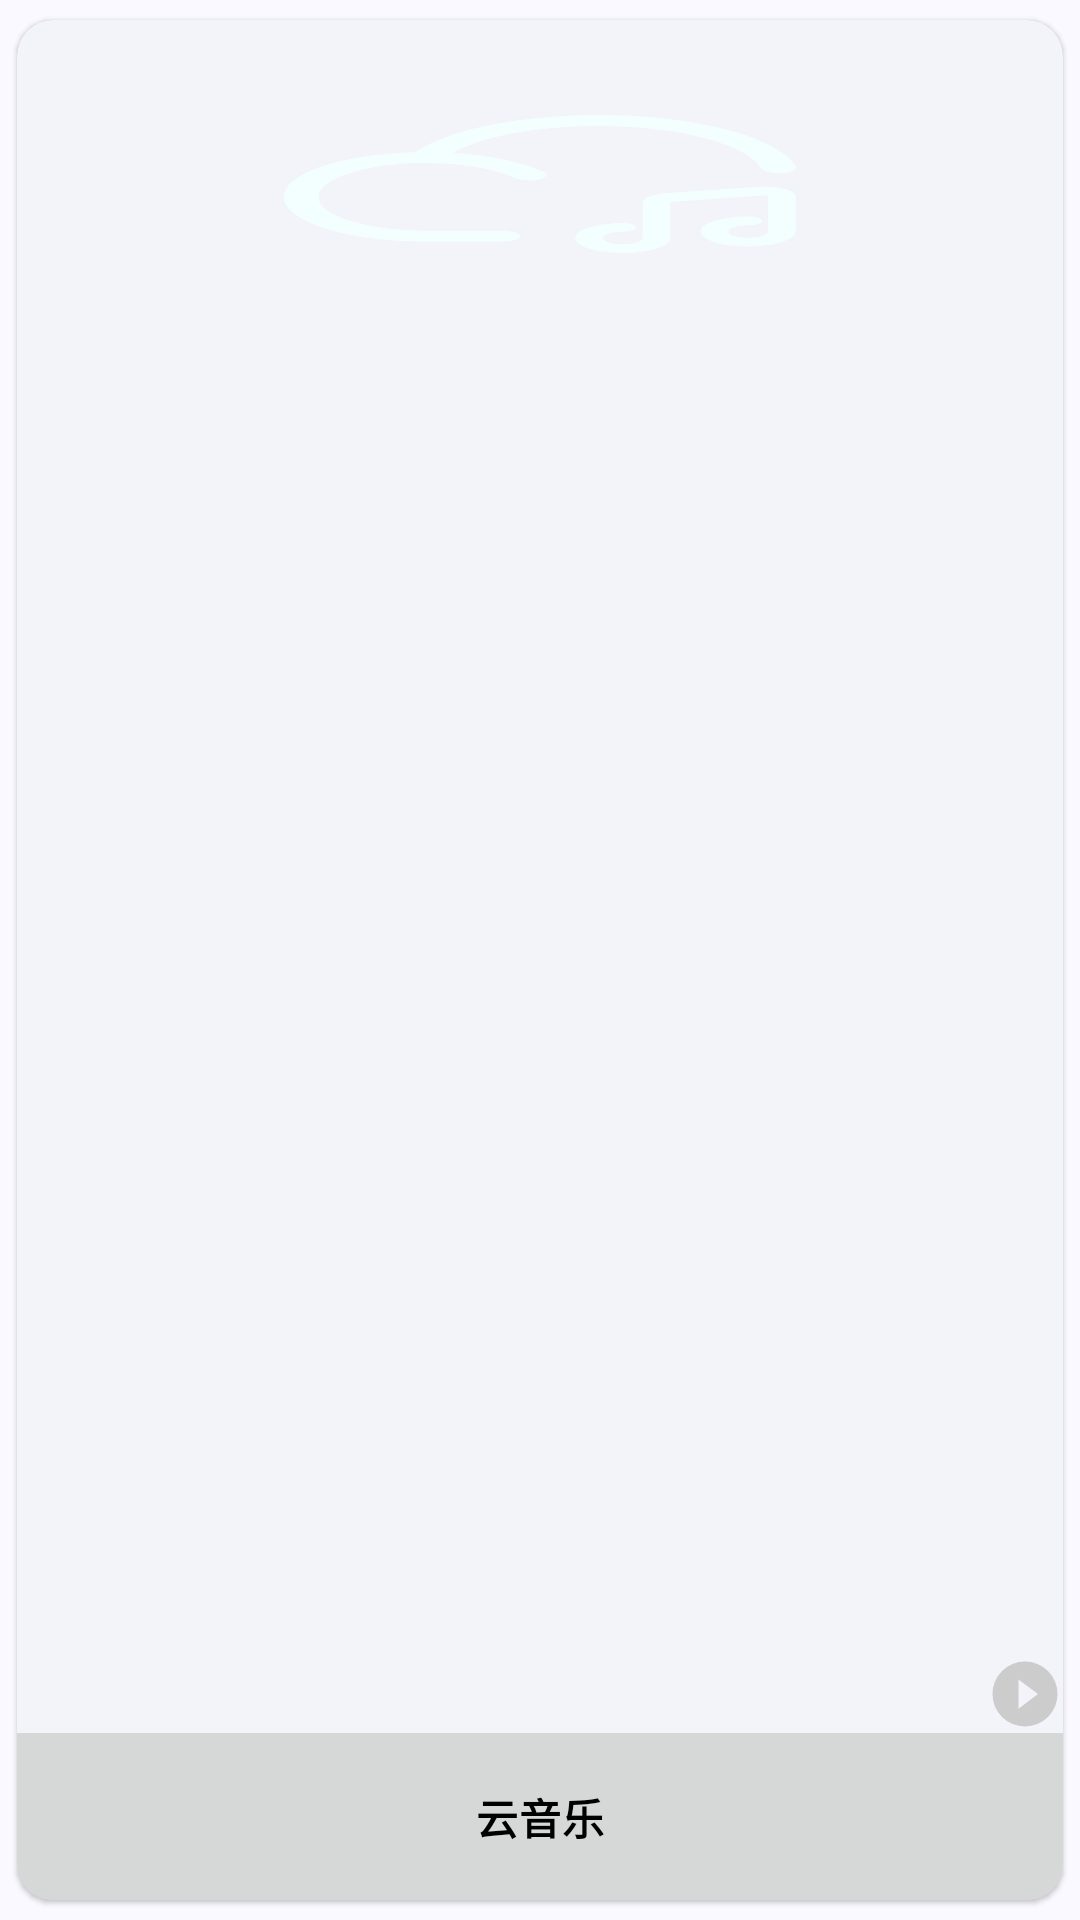

Icon click points for this 1080px×1920px phone screenshot, format (x=x, y=y):
play: (x=1025, y=1694)
